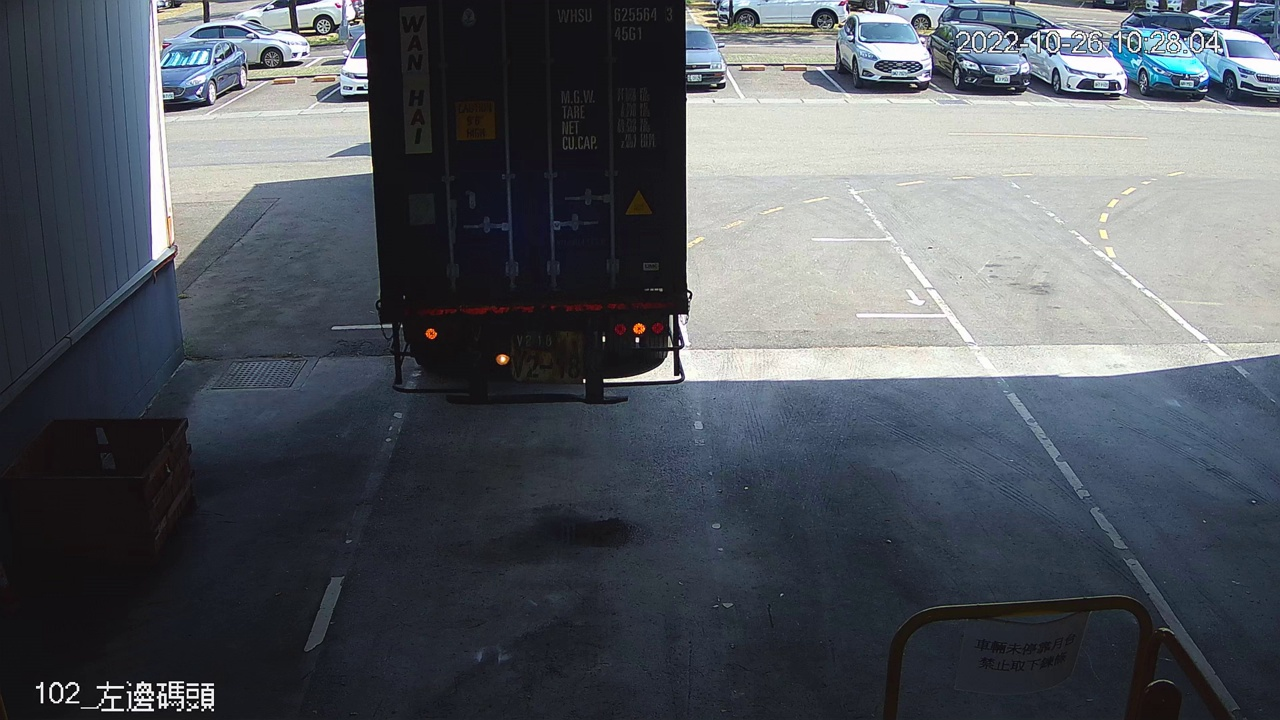container: (552, 1, 677, 46)
